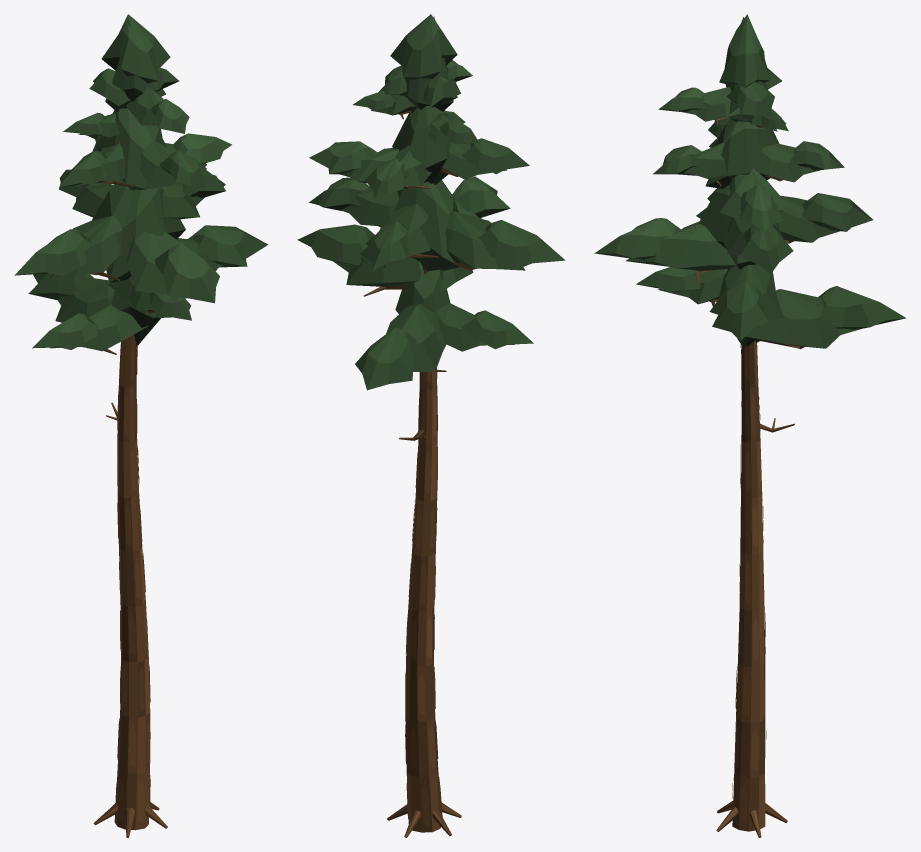
Rendered from pine-02.glb.
3 views of the same model, side by side, from view 1: azimuth 30°, elevation 25°; view 2: azimuth 150°, elevation 25°; view 3: azimuth 270°, elevation 25° (orthographic).
Visible parts, largest first — view 1: pine-02; view 2: pine-02; view 3: pine-02.
Part boxes in pixels (x1,y1,x2,y2): pine-02: [14, 14, 268, 837]; pine-02: [297, 14, 565, 837]; pine-02: [594, 14, 906, 837].
Size of the model in its own units: 3.71 by 11 by 3.86.
